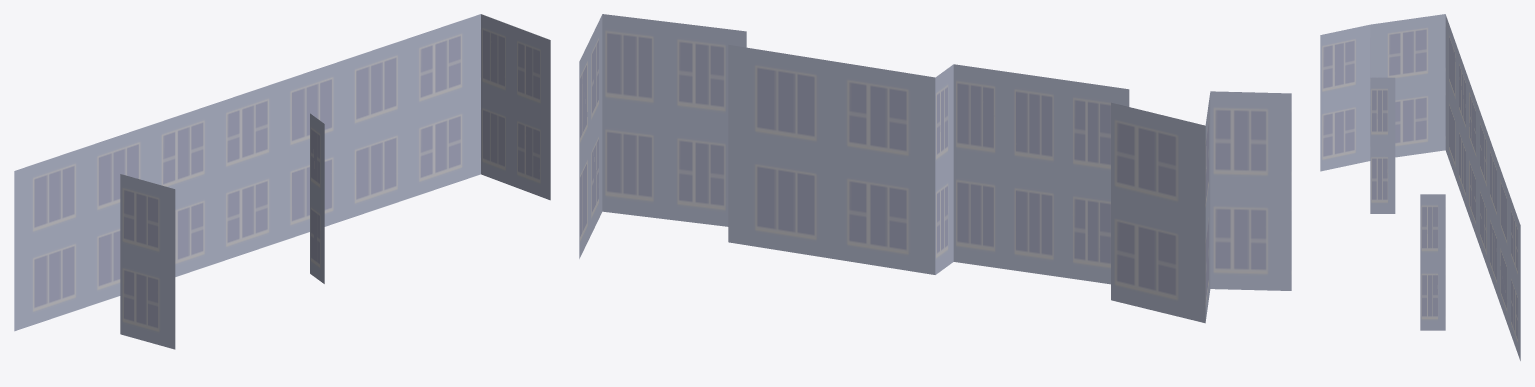
Rendered from testui9.gltf.
The picture shows the model from 3 angles, left to right: view 1: azimuth 30°, elevation 25°; view 2: azimuth 150°, elevation 25°; view 3: azimuth 270°, elevation 25°; orthographic projection. The views are drawn at different scales.
Bounding box in the file's own units: 21 × 6 × 8.
2 materials, 2 textured.
